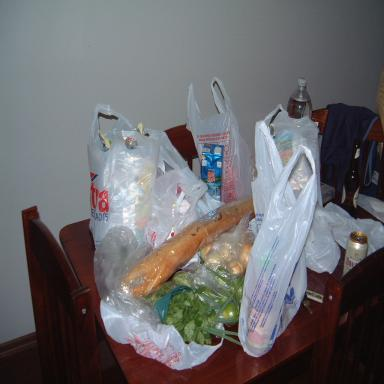plasticbag: (85, 106, 242, 364), (245, 122, 325, 348)
